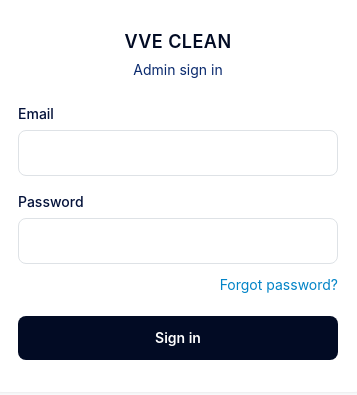
LoginPage › shows a generic error message on failed sign-in, without revealing the cause
In the field labelled "Email": x=178, y=153 x1=18 y1=130 x2=338 y2=176, type "owner@example.com"
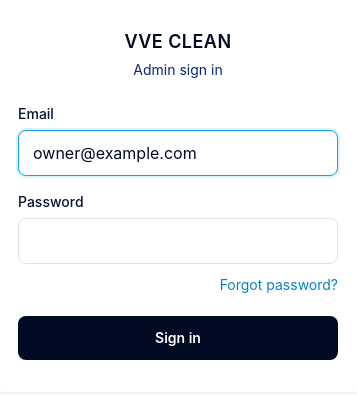
In the password field labelled "Password": x=178, y=241 x1=18 y1=218 x2=338 y2=264, type "wrong-password"
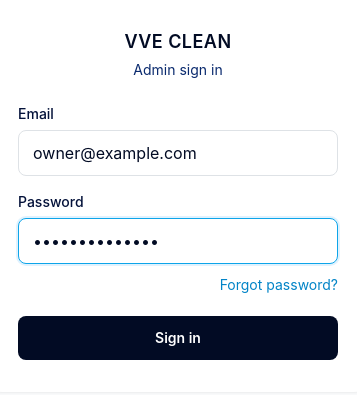
Click the button "Sign in": x=178, y=338 x1=18 y1=316 x2=338 y2=360
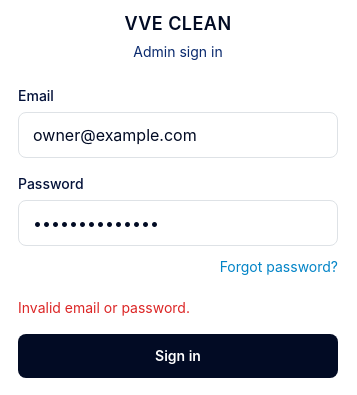
expect the message reads "Invalid email or password.": met, box x1=18 y1=299 x2=190 y2=316
